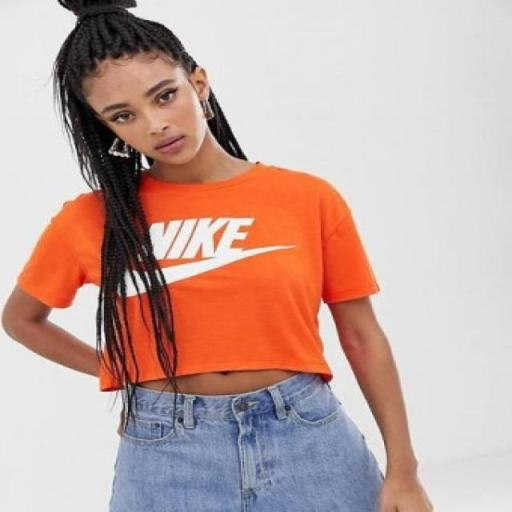Nike: (110, 254, 260, 300), (134, 216, 256, 264)
